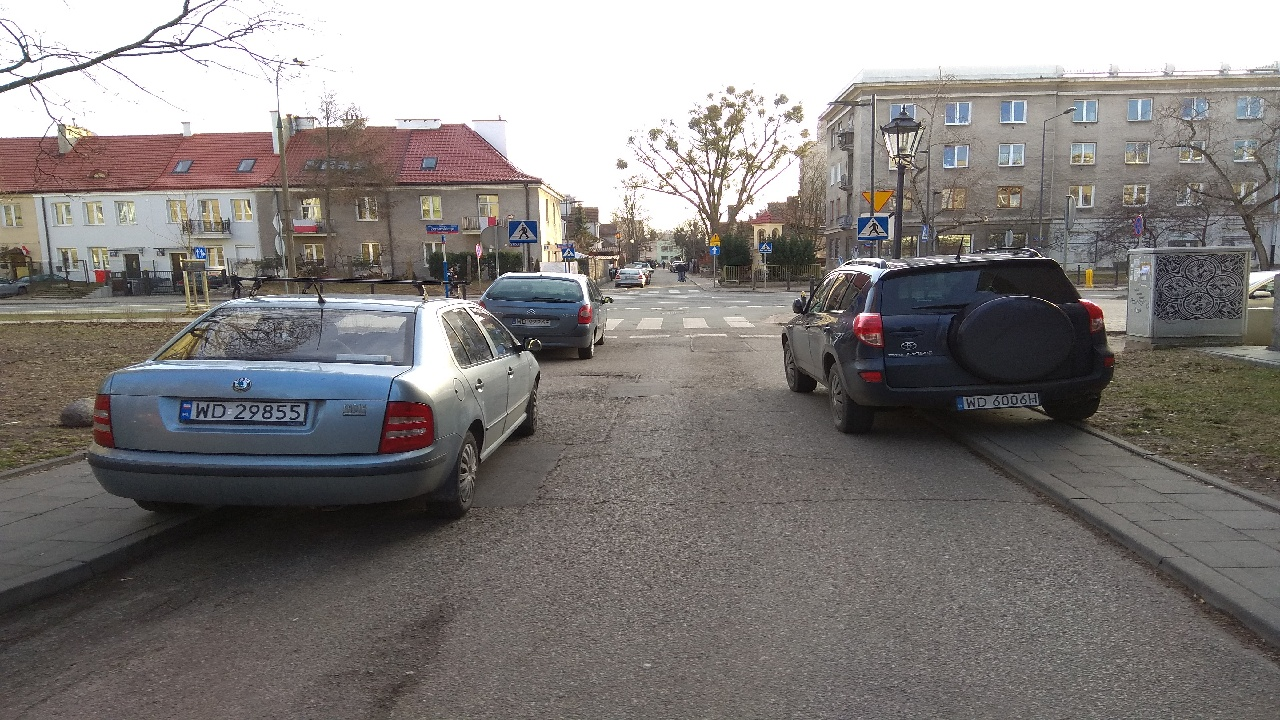A7: (861, 183, 896, 210)
D6: (854, 211, 894, 244), (502, 215, 542, 245)
